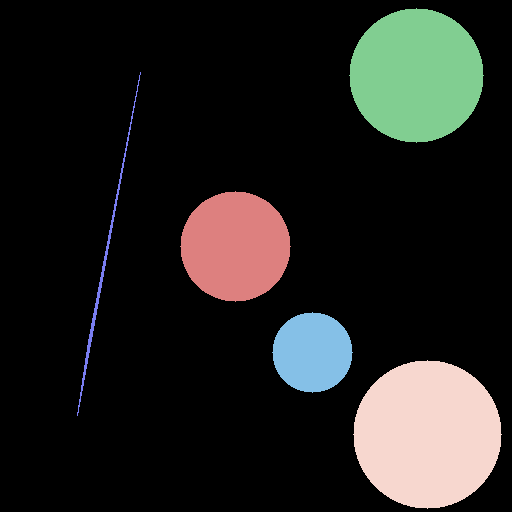circle: (353, 360, 501, 508), (349, 8, 483, 142), (180, 191, 290, 301), (272, 312, 352, 392)
